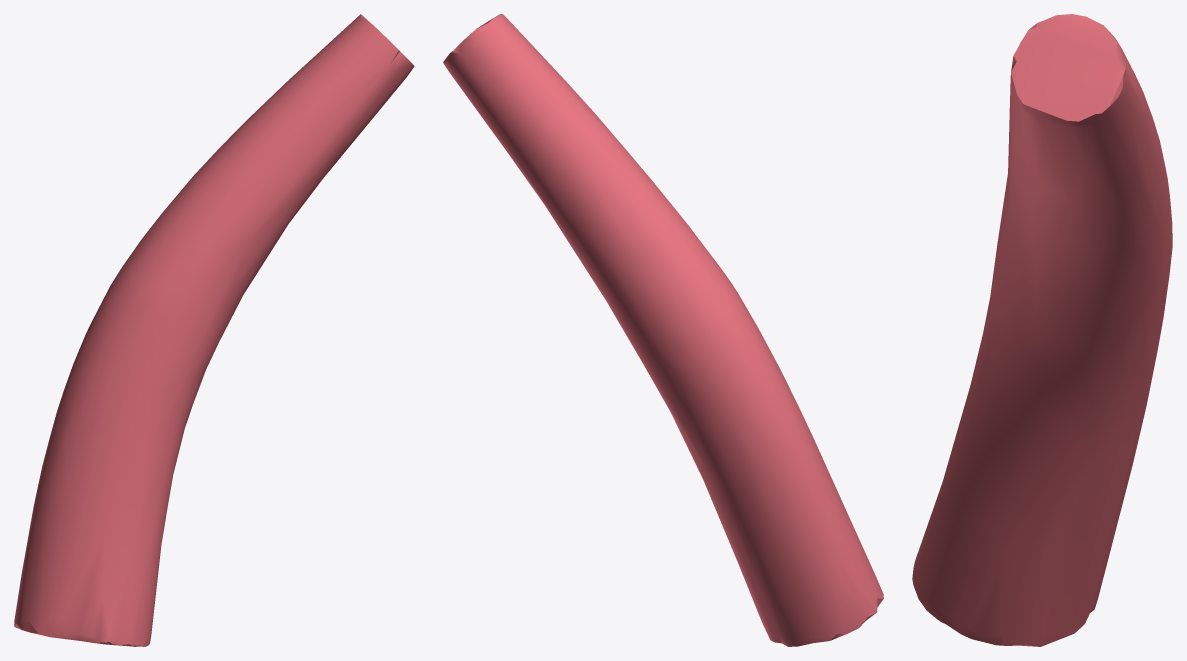
The model's file is fma8627_fj6069.glb.
3 views of the same model, side by side, from view 1: azimuth 30°, elevation 25°; view 2: azimuth 150°, elevation 25°; view 3: azimuth 270°, elevation 25° (orthographic). The views are drawn at different scales.
Parts seen in each view (by area): view 1: FMA8627_FJ6069; view 2: FMA8627_FJ6069; view 3: FMA8627_FJ6069.
Part boxes in pixels (box(x1,y1,x2,y2)): FMA8627_FJ6069: box(14, 14, 414, 646); FMA8627_FJ6069: box(443, 14, 883, 646); FMA8627_FJ6069: box(912, 14, 1172, 646).
Size of the model in its own units: 0.0136 by 0.0177 by 0.00508.
